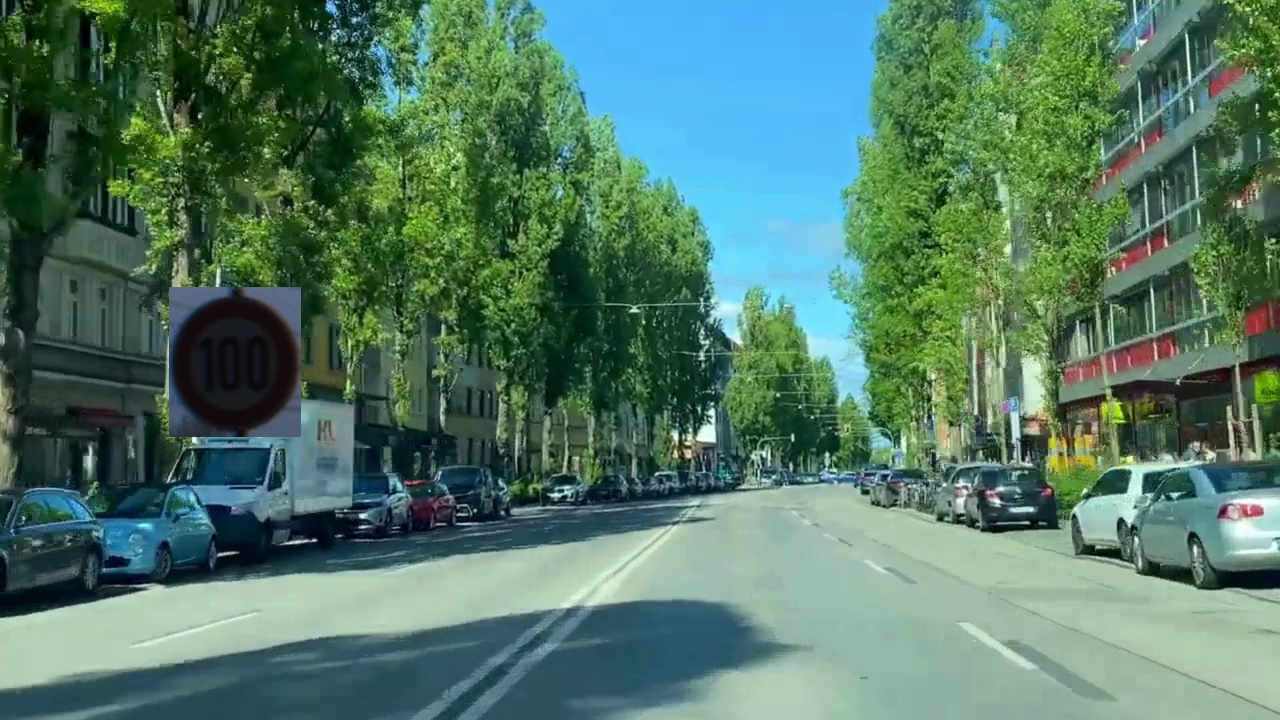Speed 100: (169, 287, 301, 437)
